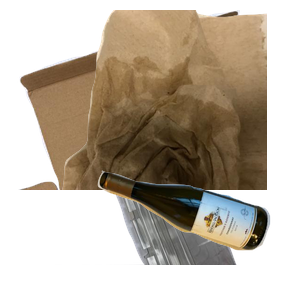cardboard: (16, 10, 256, 190)
glass: (95, 168, 300, 300)
plastic: (55, 120, 284, 300)
trash: (60, 10, 300, 190)
